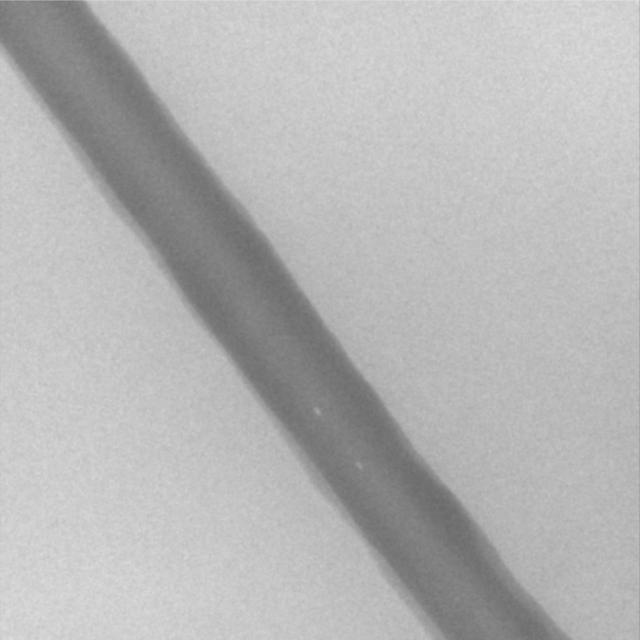air hole: (312, 405, 323, 417), (355, 460, 363, 471)
